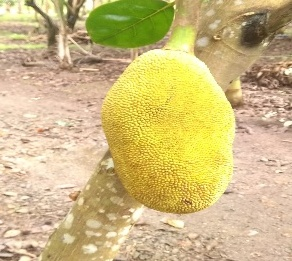Mit: (102, 50, 237, 214)
